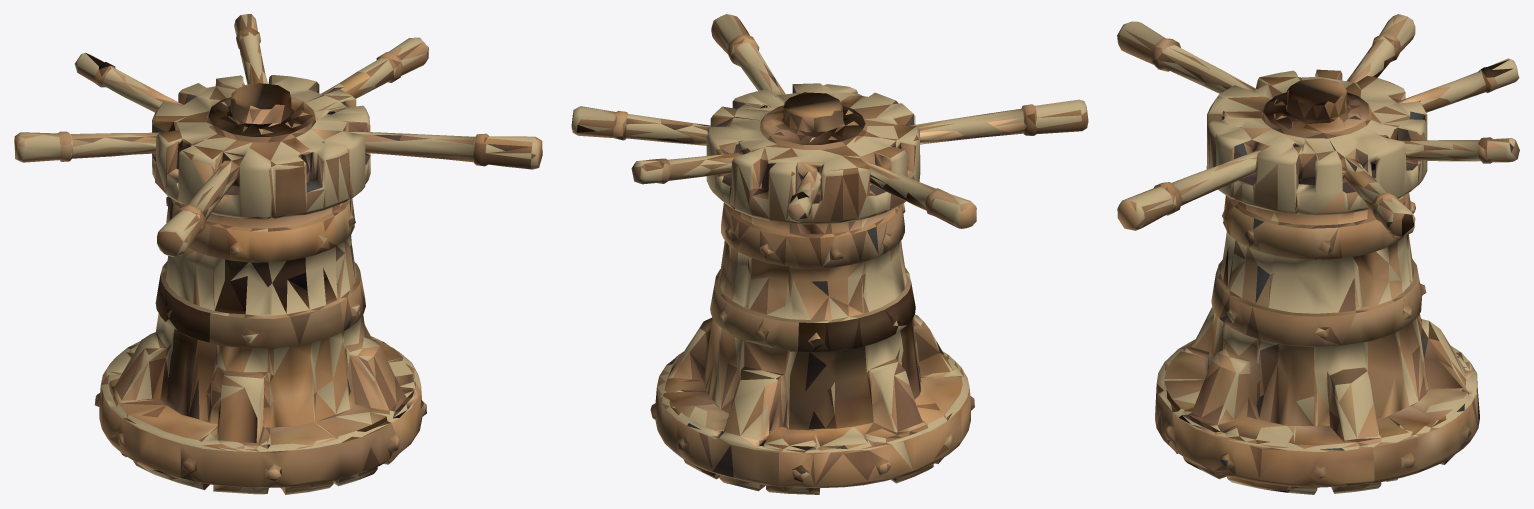
The model's file is harbor-capstan.glb.
The picture shows the model from 3 angles, left to right: view 1: azimuth 30°, elevation 25°; view 2: azimuth 150°, elevation 25°; view 3: azimuth 270°, elevation 25°; orthographic projection. The views are drawn at different scales.
Visible parts, largest first — view 1: harbor-capstan; view 2: harbor-capstan; view 3: harbor-capstan.
Boxes of the visible parts, left/top/right/bottom form: harbor-capstan: left=14, top=14, right=542, bottom=494; harbor-capstan: left=571, top=14, right=1088, bottom=494; harbor-capstan: left=1117, top=14, right=1519, bottom=494.
Bounding box in the file's own units: 3.56 × 2.82 × 3.
5 materials, 4 textured.
